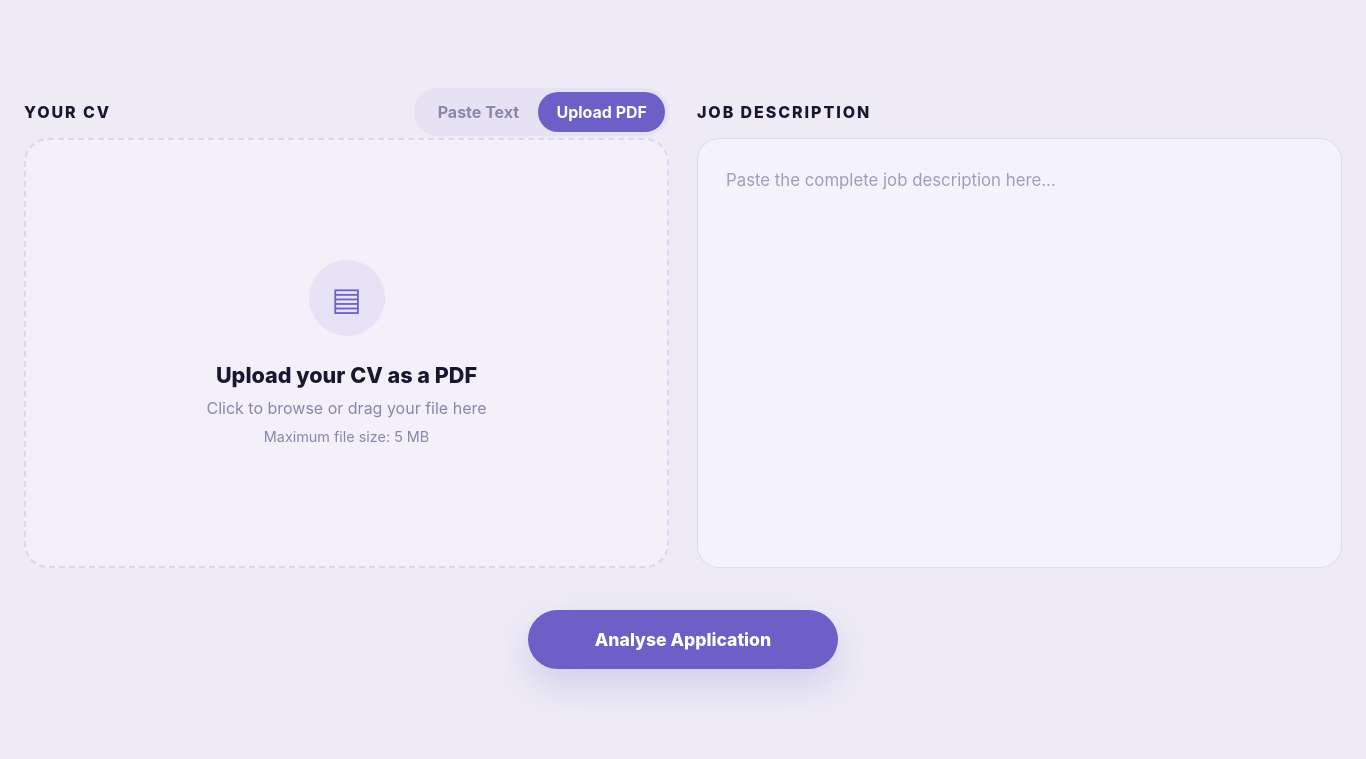
it: App › shows validation when the job description is empty
(page scrolled)
Click the button "Analyse Application" at {"x": 683, "y": 639}, box [528,610,838,669]
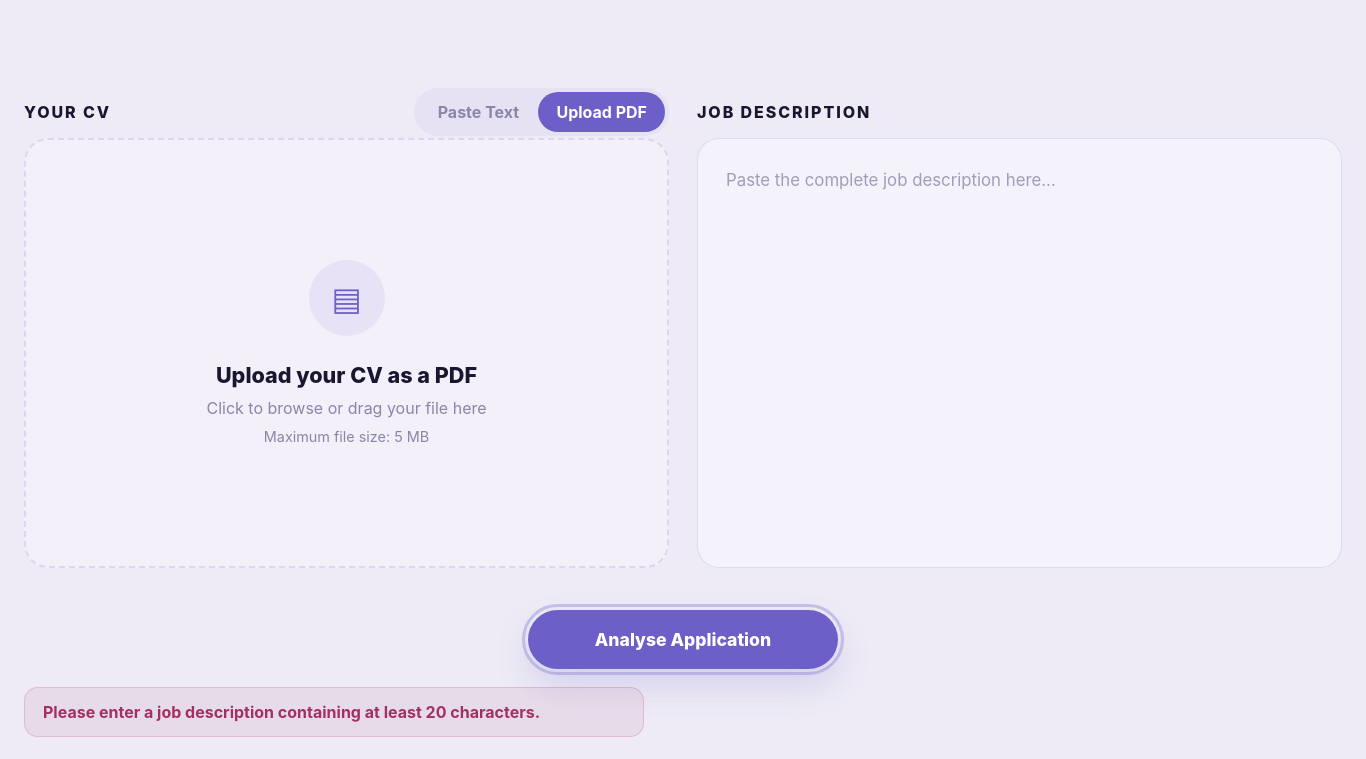
Expected: the message reads "Please enter a job description containing at least 20 characters.", [43,702,540,722]
